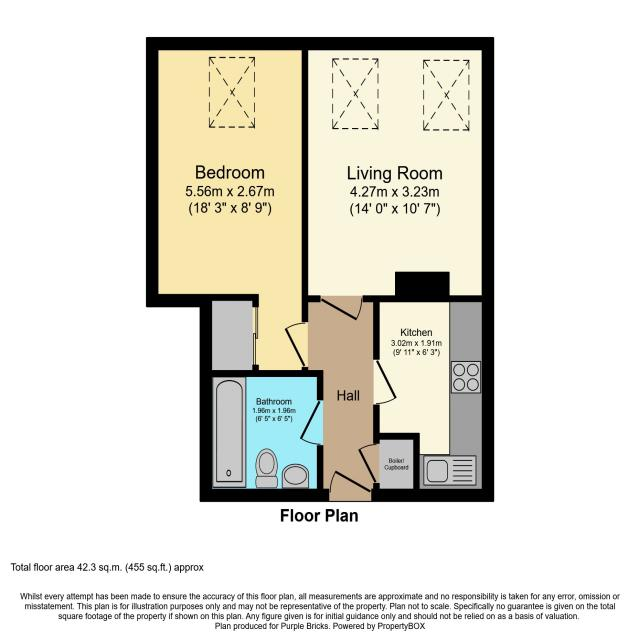DOOR: (328, 468, 373, 503), (281, 320, 310, 369), (319, 294, 365, 324), (372, 358, 399, 407), (298, 399, 324, 448), (356, 442, 381, 485)
ROOM: (146, 36, 310, 378), (301, 37, 495, 323), (372, 271, 495, 502)
